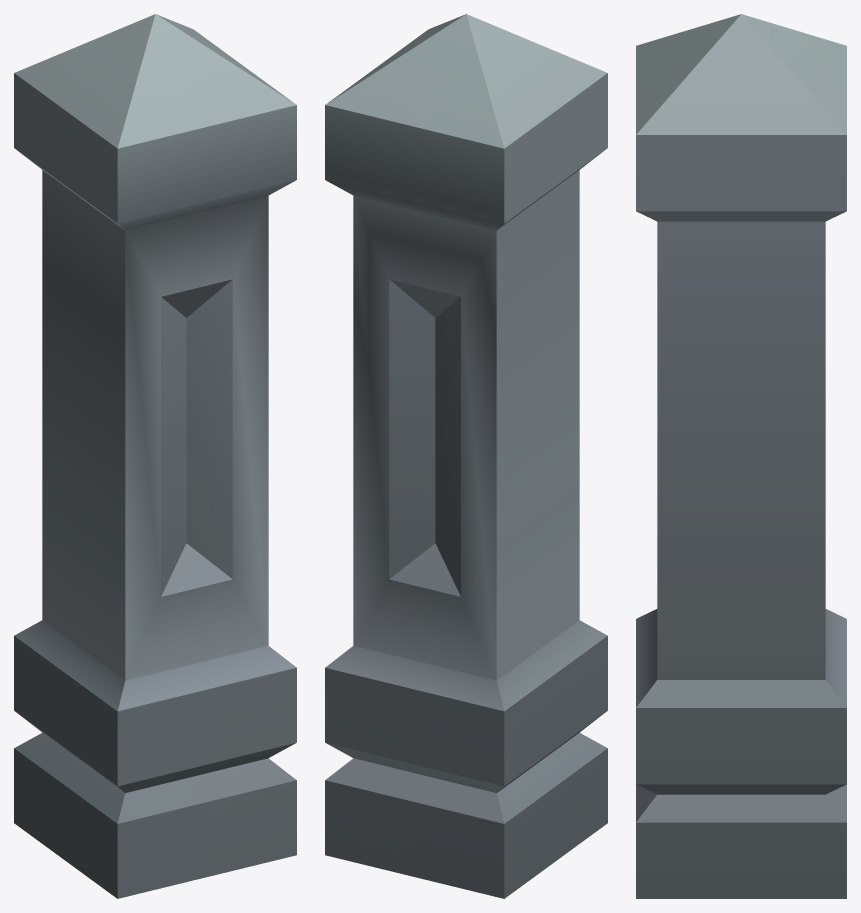
Rendered from h_pillar.glb.
3 renders of one model, left to right at view 1: azimuth 30°, elevation 25°; view 2: azimuth 150°, elevation 25°; view 3: azimuth 270°, elevation 25°, orthographic.
Parts seen in each view (by area): view 1: pillar; view 2: pillar; view 3: pillar.
Boxes of the visible parts, x1,y1,x2,y2 form: pillar: [14, 14, 296, 898]; pillar: [325, 14, 607, 898]; pillar: [636, 14, 846, 898].
Size of the model in its own units: 1 by 4.4 by 1.
Materials: 1 (1 with a texture image).
